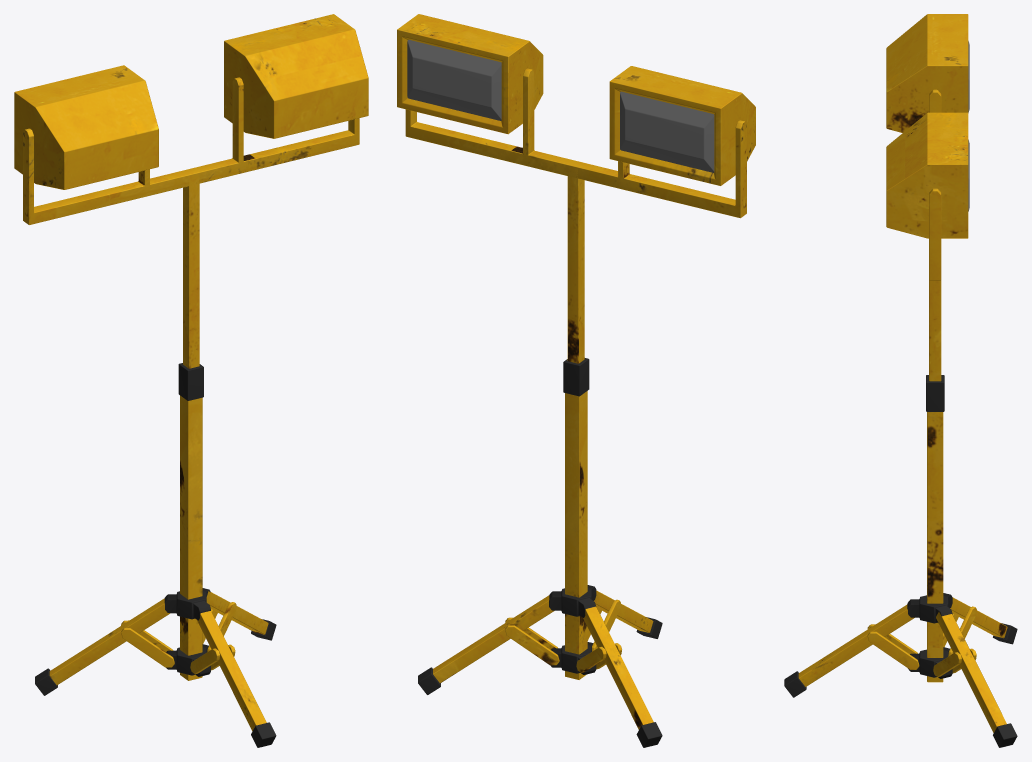
File: Construction_Floor_ShortTripod_2Heads.fbx
3 views of the same model, side by side, from view 1: azimuth 30°, elevation 25°; view 2: azimuth 150°, elevation 25°; view 3: azimuth 270°, elevation 25° (orthographic). The views are drawn at different scales.
Visible parts, largest first — view 1: Construction_Floor_ShortTripod_2Heads_LOD0; view 2: Construction_Floor_ShortTripod_2Heads_LOD0; view 3: Construction_Floor_ShortTripod_2Heads_LOD0.
Boxes of the visible parts, bbox=[...] form: Construction_Floor_ShortTripod_2Heads_LOD0: bbox=[14, 14, 368, 747]; Construction_Floor_ShortTripod_2Heads_LOD0: bbox=[397, 14, 755, 747]; Construction_Floor_ShortTripod_2Heads_LOD0: bbox=[784, 14, 1017, 747].
Size of what is drawn, in the model's own units: 90 by 163 by 56.85.
4 materials, 1 textured.
